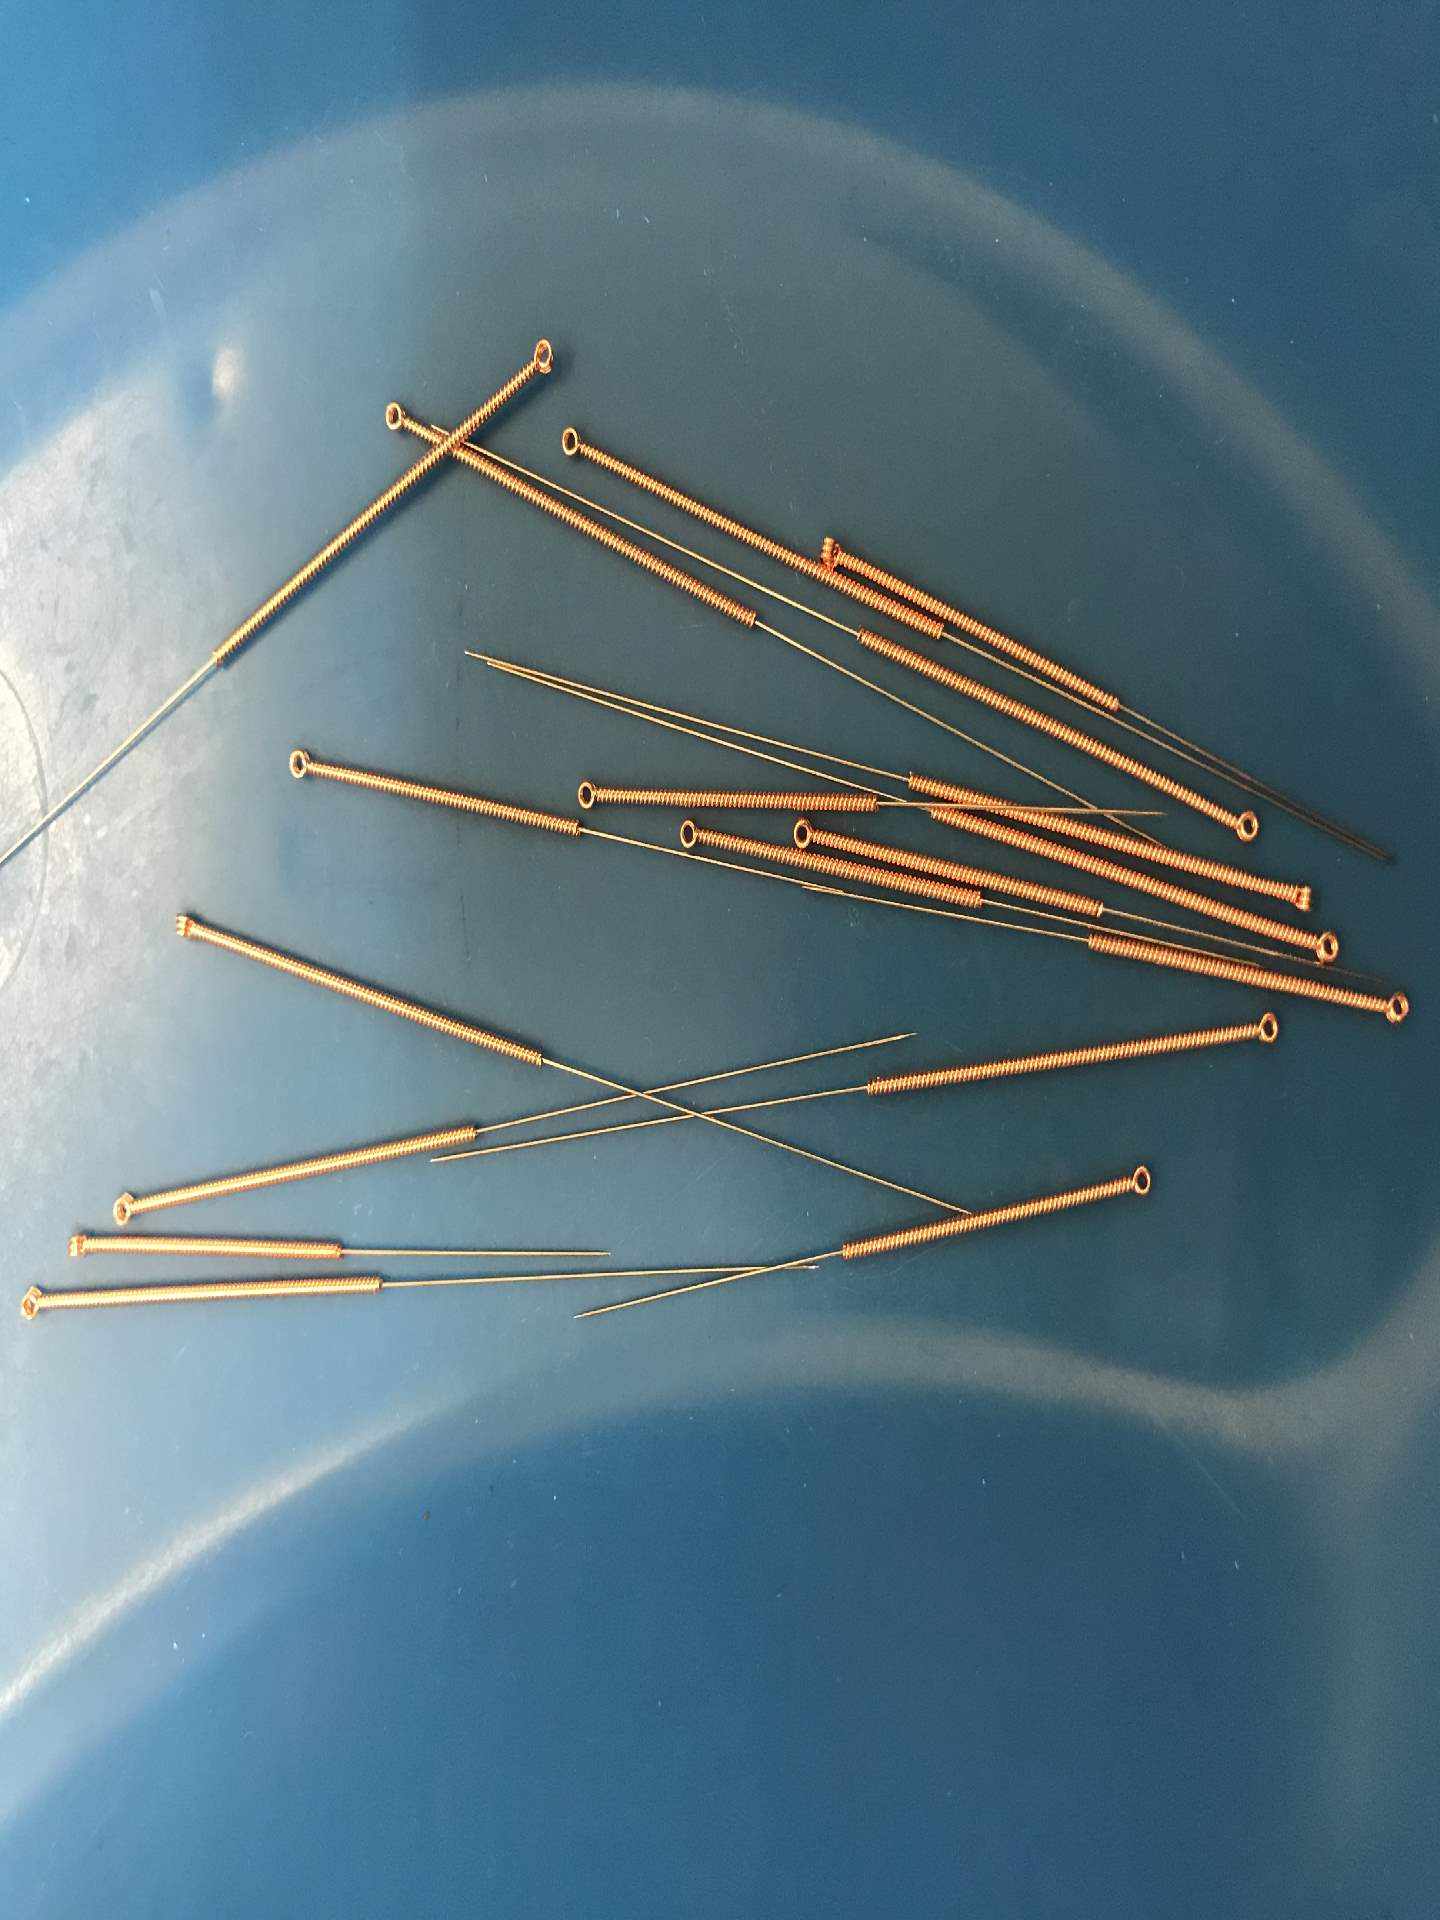needle: (519, 330, 563, 386), (1373, 981, 1417, 1036), (1243, 1002, 1287, 1055), (104, 1182, 147, 1234), (551, 417, 591, 469), (278, 742, 321, 791), (1307, 924, 1346, 974), (1119, 1157, 1159, 1206), (12, 1279, 50, 1330), (1225, 803, 1266, 850), (377, 395, 416, 443), (672, 810, 711, 859), (166, 900, 204, 949), (570, 770, 610, 816), (59, 1223, 98, 1268), (1281, 874, 1317, 921), (817, 529, 855, 573), (787, 810, 821, 854)
